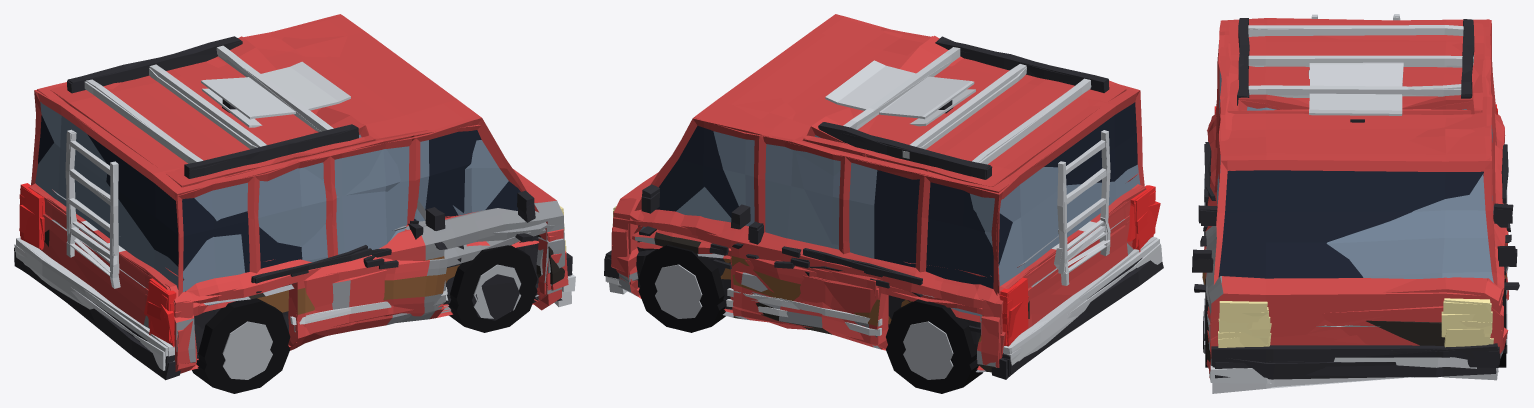
Rendered from cars-damage.glb.
3 views of the same model, side by side, from view 1: azimuth 30°, elevation 25°; view 2: azimuth 150°, elevation 25°; view 3: azimuth 270°, elevation 25° (orthographic). The views are drawn at different scales.
Parts seen in each view (by area): view 1: KeiVan_dent, KeiVan_bust, Wagon_dent, Coupe_bust, Wagon_bust, Coupe_dent, KeiVan_wreck, Coupe_wreck, Wagon_wreck; view 2: KeiVan_dent, KeiVan_bust, Wagon_dent, Coupe_bust, Wagon_bust, Coupe_wreck, KeiVan_wreck, Wagon_wreck, Coupe_dent; view 3: KeiVan_dent, Wagon_dent, KeiVan_bust, Wagon_bust, KeiVan_wreck, Coupe_dent, Wagon_wreck, Coupe_bust, Coupe_wreck.
Part boxes in pixels (<box>): KeiVan_dent: <box>14,14,563,370</box>; KeiVan_bust: <box>14,14,563,389</box>; Wagon_dent: <box>44,38,572,367</box>; Coupe_bust: <box>16,124,571,393</box>; Wagon_bust: <box>20,36,562,346</box>; Coupe_dent: <box>16,36,570,366</box>; KeiVan_wreck: <box>16,189,572,393</box>; Coupe_wreck: <box>14,222,575,393</box>; Wagon_wreck: <box>14,205,545,368</box>; KeiVan_dent: <box>604,14,1153,373</box>; KeiVan_bust: <box>605,28,1155,392</box>; Wagon_dent: <box>605,40,1139,367</box>; Coupe_bust: <box>613,36,1157,392</box>; Wagon_bust: <box>605,36,1155,370</box>; Coupe_wreck: <box>608,211,1162,393</box>; KeiVan_wreck: <box>612,173,1163,393</box>; Wagon_wreck: <box>607,231,1136,379</box>; Coupe_dent: <box>605,35,1159,354</box>; KeiVan_dent: <box>1193,15,1517,367</box>; Wagon_dent: <box>1198,18,1512,365</box>; KeiVan_bust: <box>1192,14,1515,365</box>; Wagon_bust: <box>1200,19,1513,358</box>; KeiVan_wreck: <box>1194,142,1519,378</box>; Coupe_dent: <box>1204,91,1507,372</box>; Wagon_wreck: <box>1200,116,1511,379</box>; Coupe_bust: <box>1204,100,1507,393</box>; Coupe_wreck: <box>1204,231,1509,383</box>.
Size of the model in its own units: 2.46 by 1.26 by 1.77.
